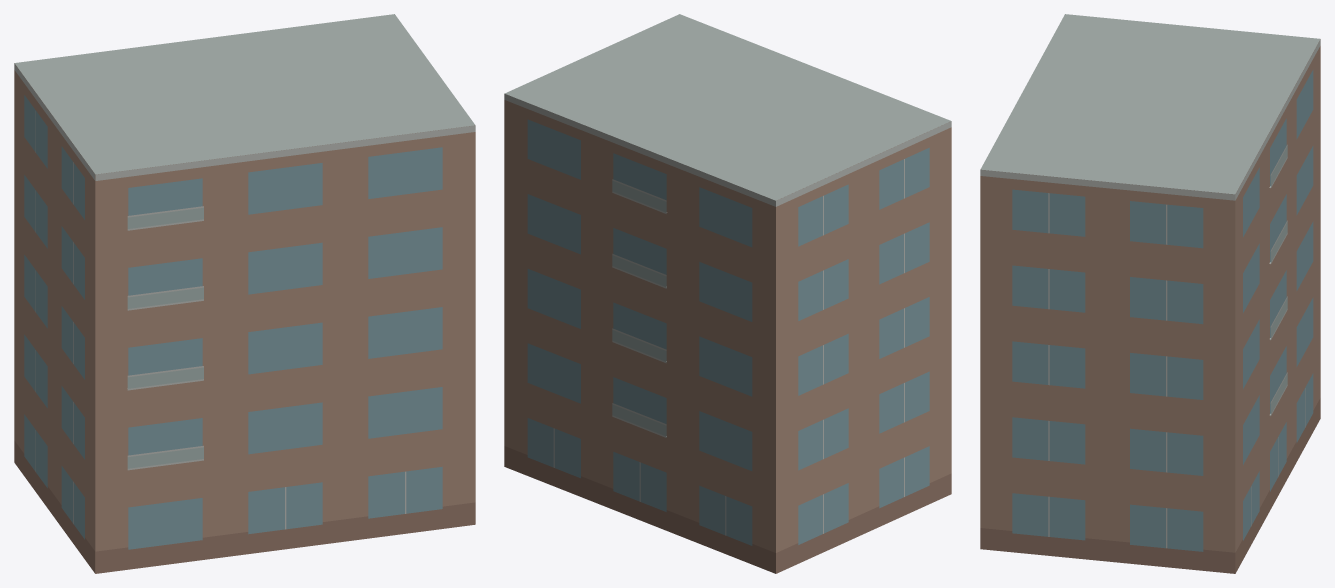
Rendered from survey-upis-32667463.glb.
The picture shows the model from 3 angles, left to right: view 1: azimuth 30°, elevation 25°; view 2: azimuth 150°, elevation 25°; view 3: azimuth 270°, elevation 25°; orthographic projection. The views are drawn at different scales.
Visible parts, largest first — view 1: survey-upis-32667463.tmp; view 2: survey-upis-32667463.tmp; view 3: survey-upis-32667463.tmp.
Part boxes in pixels (box(x1,y1,x2,y2)): survey-upis-32667463.tmp: box(14, 14, 475, 573); survey-upis-32667463.tmp: box(504, 14, 951, 573); survey-upis-32667463.tmp: box(980, 14, 1320, 573).
Size of the model in its own units: 14.99 by 14.7 by 11.96.
